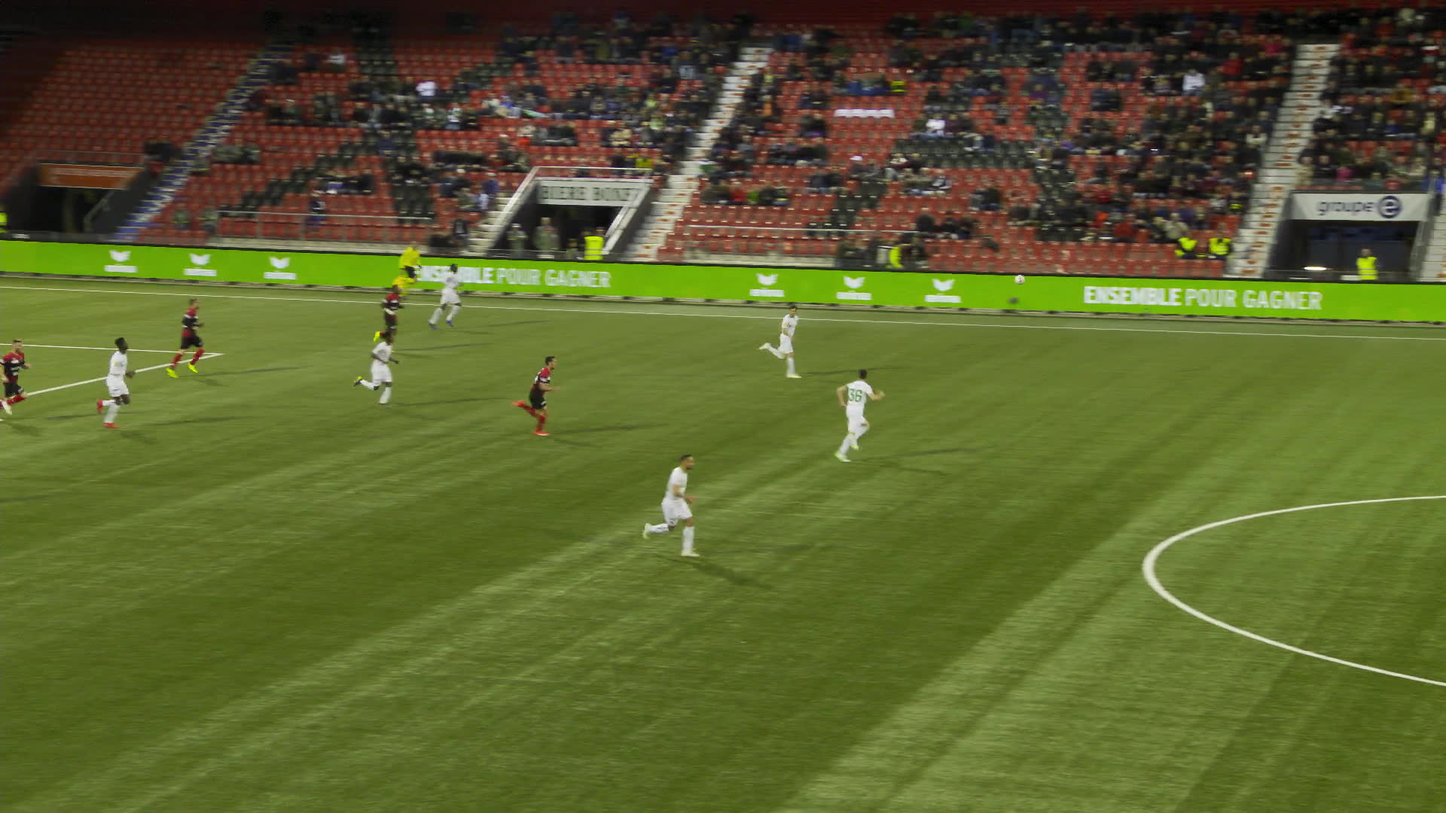ball: (1014, 275, 1022, 283)
player: (85, 333, 143, 426), (653, 455, 704, 555), (509, 354, 569, 435), (841, 370, 889, 461), (751, 304, 810, 376), (359, 326, 403, 406), (176, 300, 211, 378), (0, 337, 32, 414), (373, 282, 408, 352), (432, 264, 466, 330)
referee: (401, 239, 423, 295)
